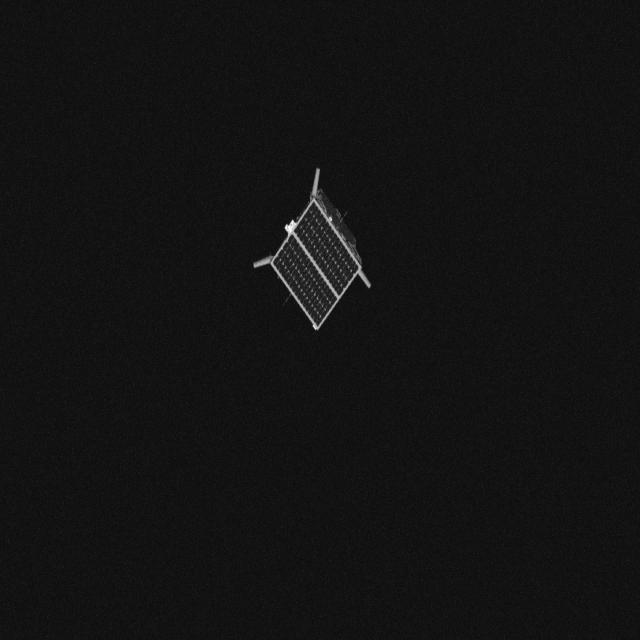medium_debris: (256, 166, 394, 330)
